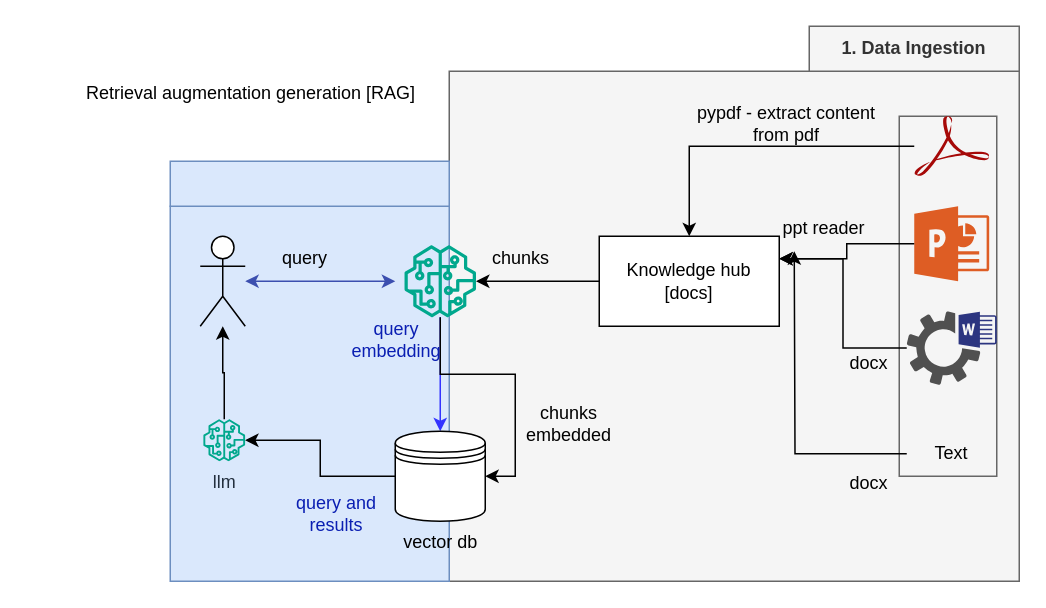
Image size: 1046x608. Some labels were removed from this diagram. The centre of each missing label's shape, as x and y in pixels:
2. Retrieval Augmented Generation: (309,183)
user: (222,280)
